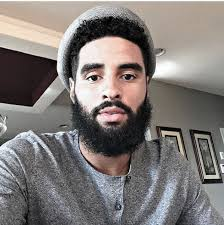black_male: (61, 24, 173, 156)
